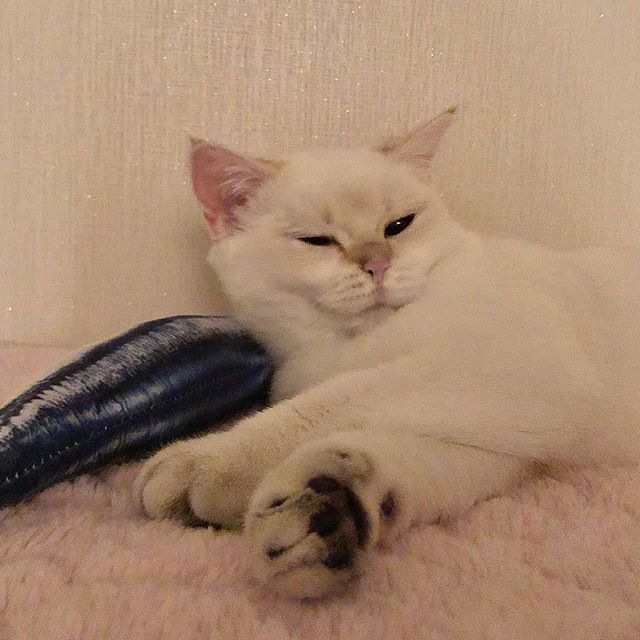cat: (182, 103, 474, 347)
